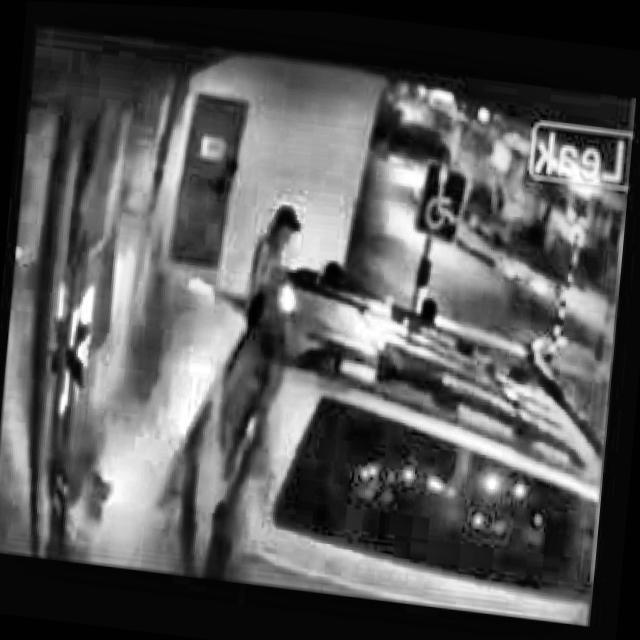Weapon: (210, 149, 328, 309)
